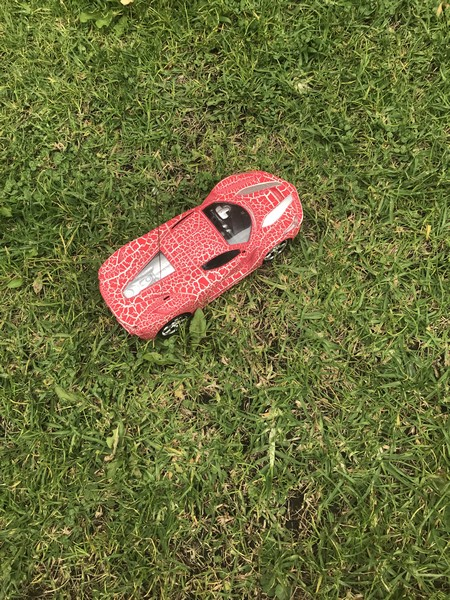RC: (96, 169, 305, 339)
